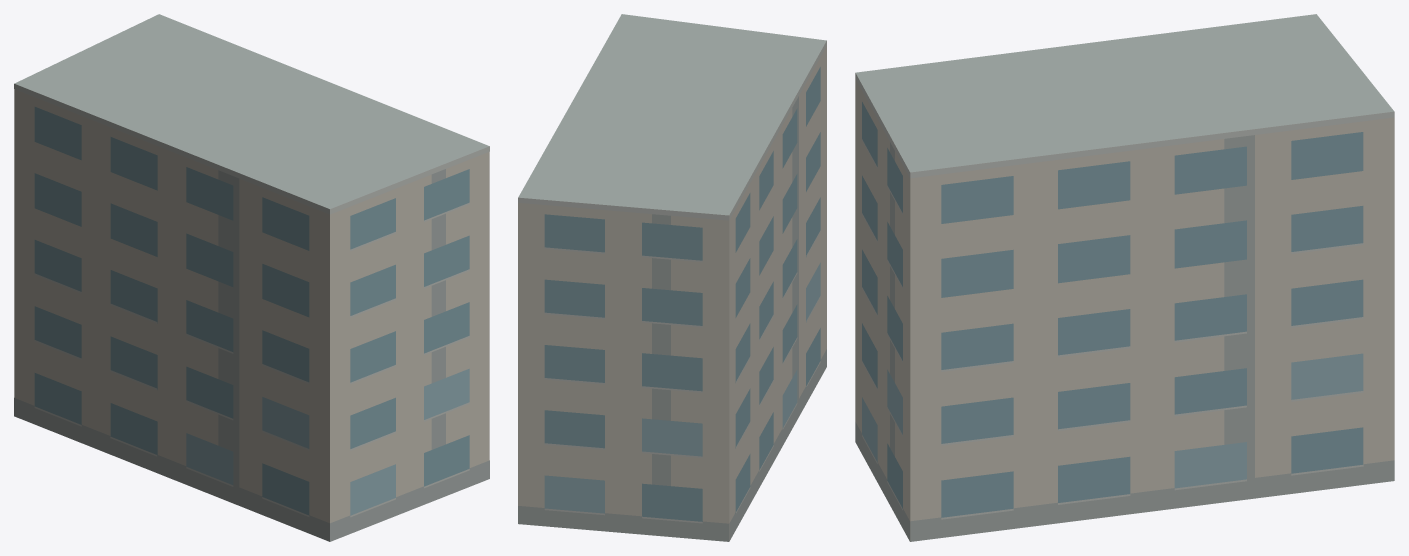
The model's file is residential-d1843dba-3fea-49d6-b2f0-a1393b496781.glb.
3 views of the same model, side by side, from view 1: azimuth 30°, elevation 25°; view 2: azimuth 150°, elevation 25°; view 3: azimuth 270°, elevation 25° (orthographic). The views are drawn at different scales.
Visible parts, largest first — view 1: residential-d1843dba-3fea-49d6-b2f0-a1393b496781.tmp; view 2: residential-d1843dba-3fea-49d6-b2f0-a1393b496781.tmp; view 3: residential-d1843dba-3fea-49d6-b2f0-a1393b496781.tmp.
Boxes of the visible parts, x1,y1,x2,y2 form: residential-d1843dba-3fea-49d6-b2f0-a1393b496781.tmp: [14, 14, 489, 541]; residential-d1843dba-3fea-49d6-b2f0-a1393b496781.tmp: [518, 14, 826, 541]; residential-d1843dba-3fea-49d6-b2f0-a1393b496781.tmp: [855, 14, 1394, 541].
Bounding box in the file's own units: 14.04 × 15.25 × 20.18.
